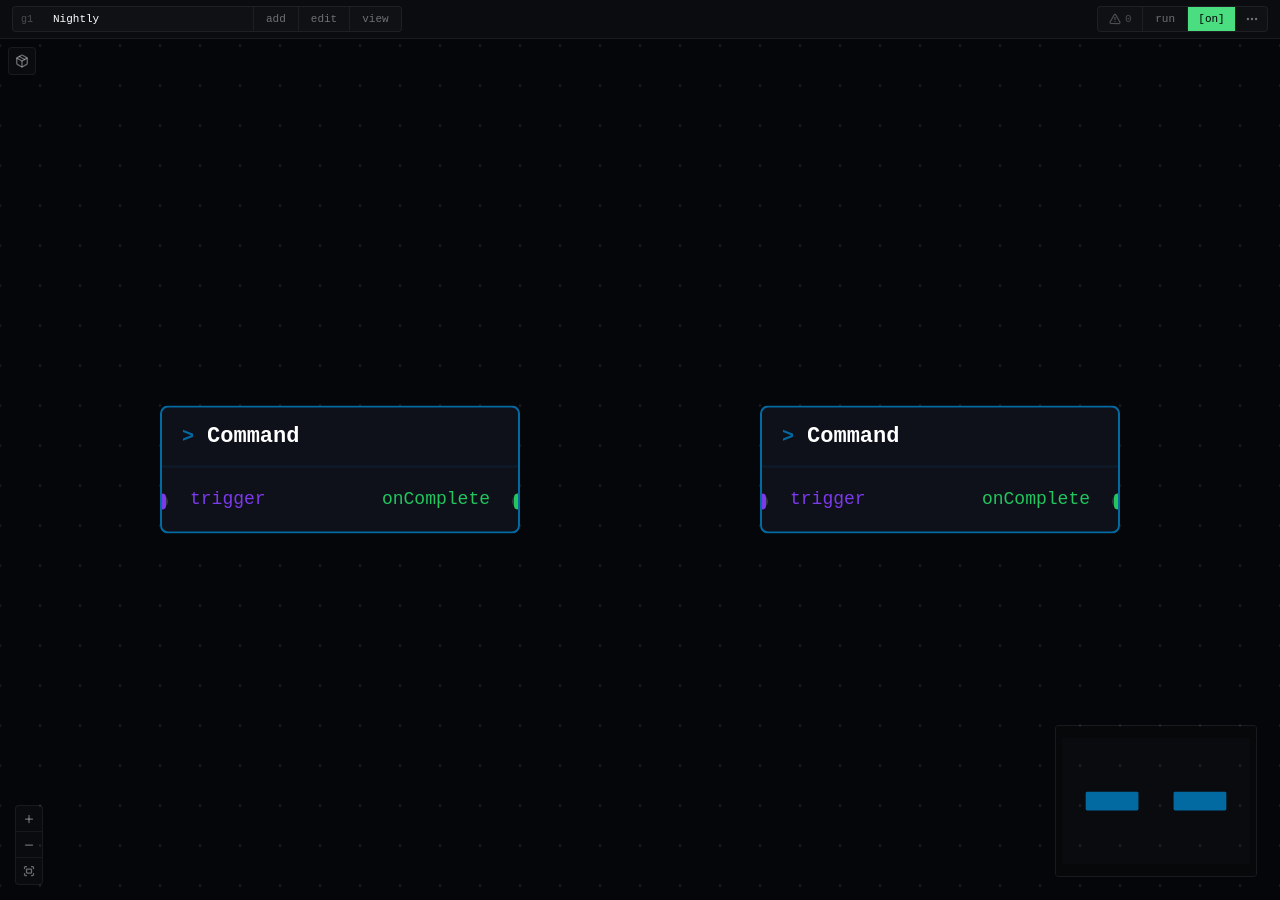
Test: the toolbar menus drive the editor › selects everything and deletes it from the edit menu
The image size is (1280, 900).
Expected: the number of elements with class "react-flow__node" is 2, [160,406,520,534]; [760,406,1120,534]
Click the button "edit". click: coordinates (324, 19)
box: [299,7,349,31]
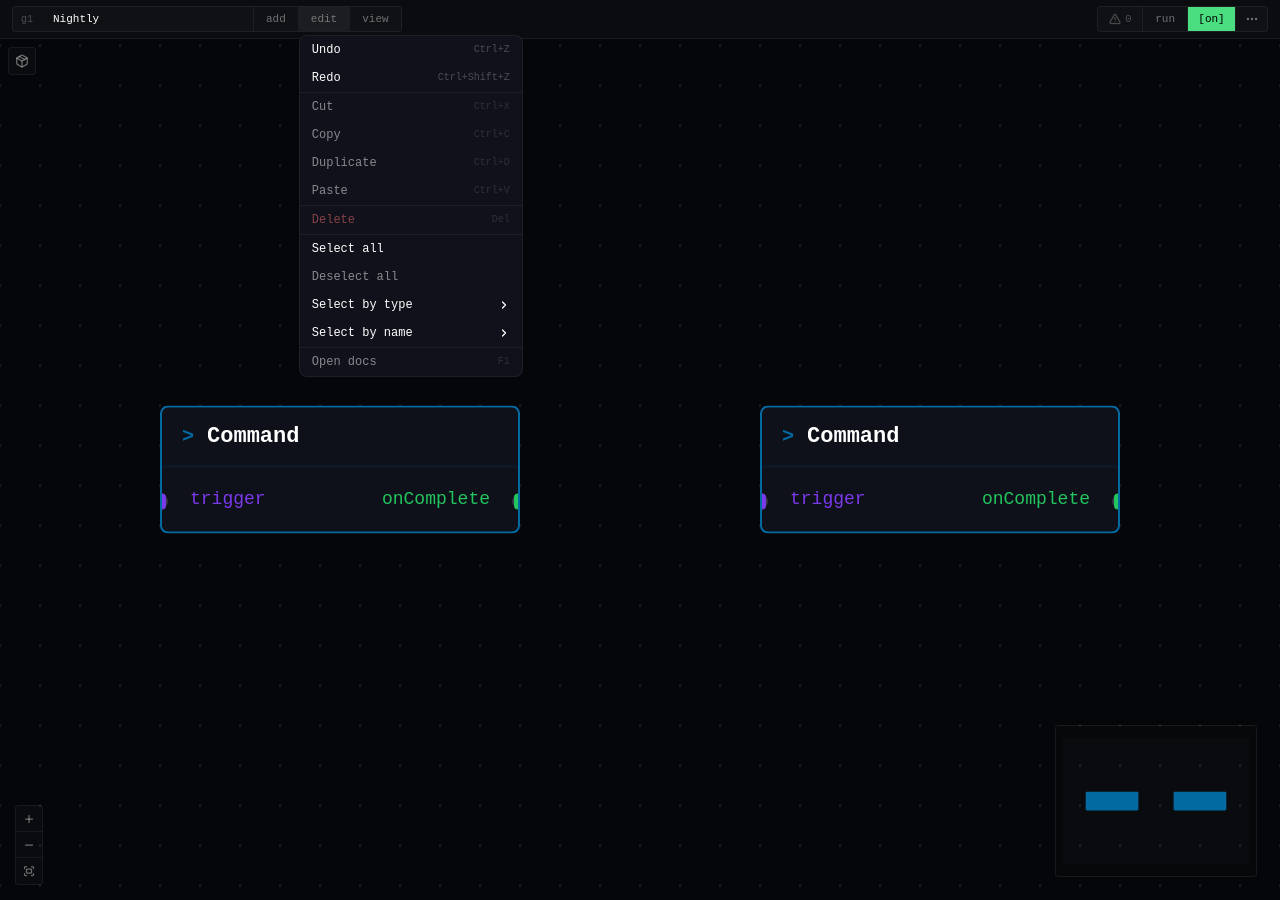
Click the button "Select all". click: coordinates (411, 249)
box: [300,235,522,263]
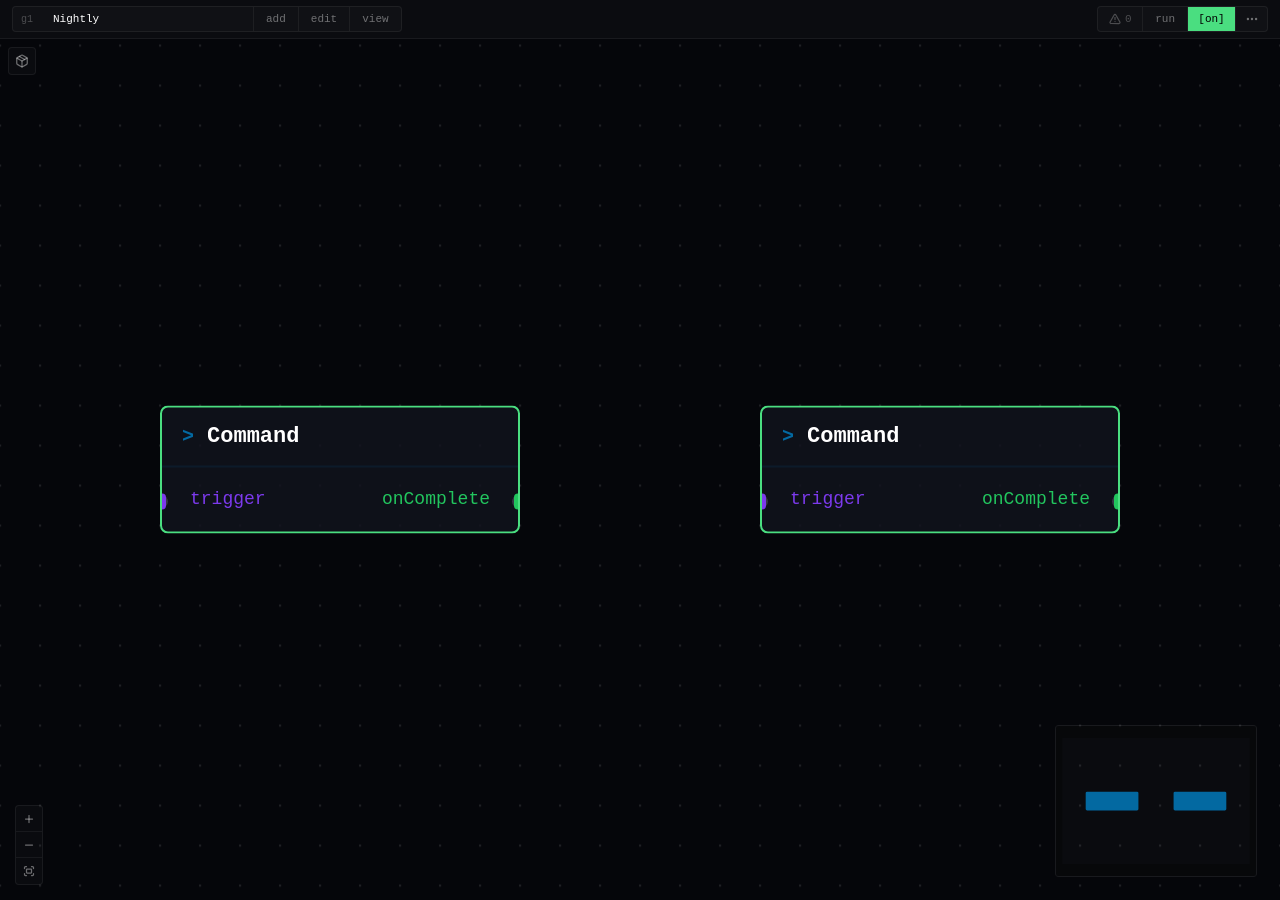
Expected: the number of elements with class "selected" is 2, [160,406,520,534]; [760,406,1120,534]
Click the button "edit". click: coordinates (324, 19)
box: [299,7,349,31]
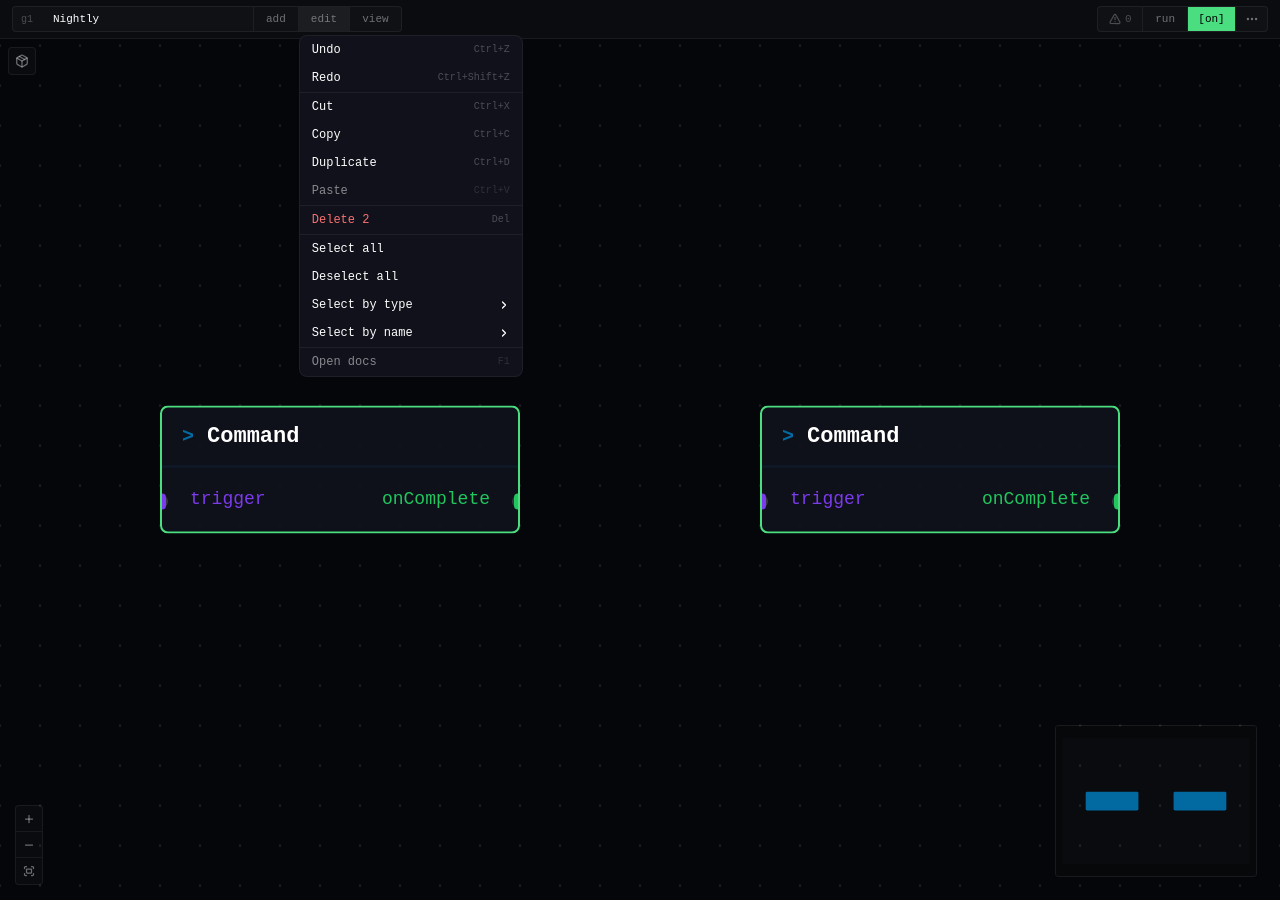
Click the button "Delete 2 Del". click: coordinates (411, 220)
box: [300,206,522,234]
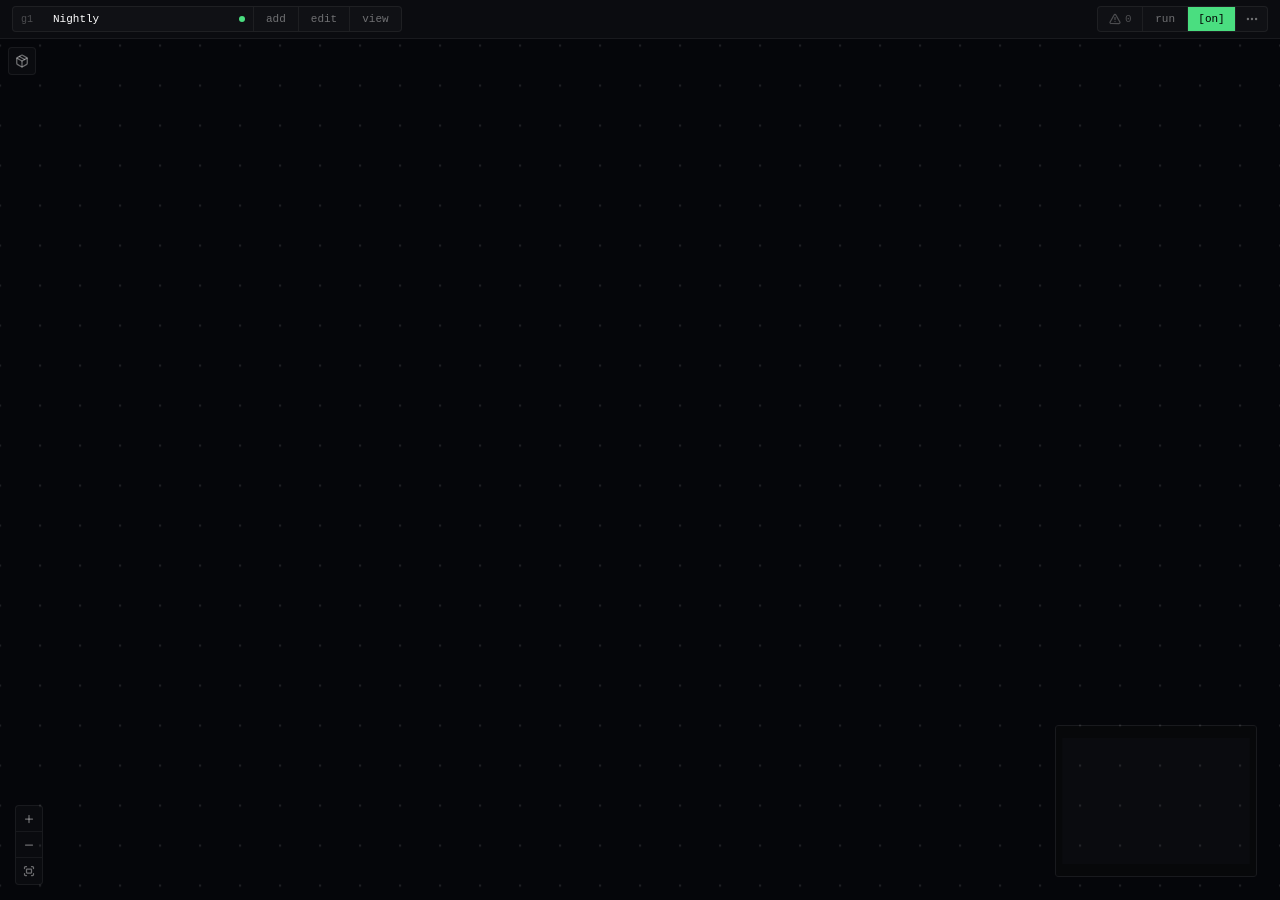
Expected: no elements with class "react-flow__node" are shown
